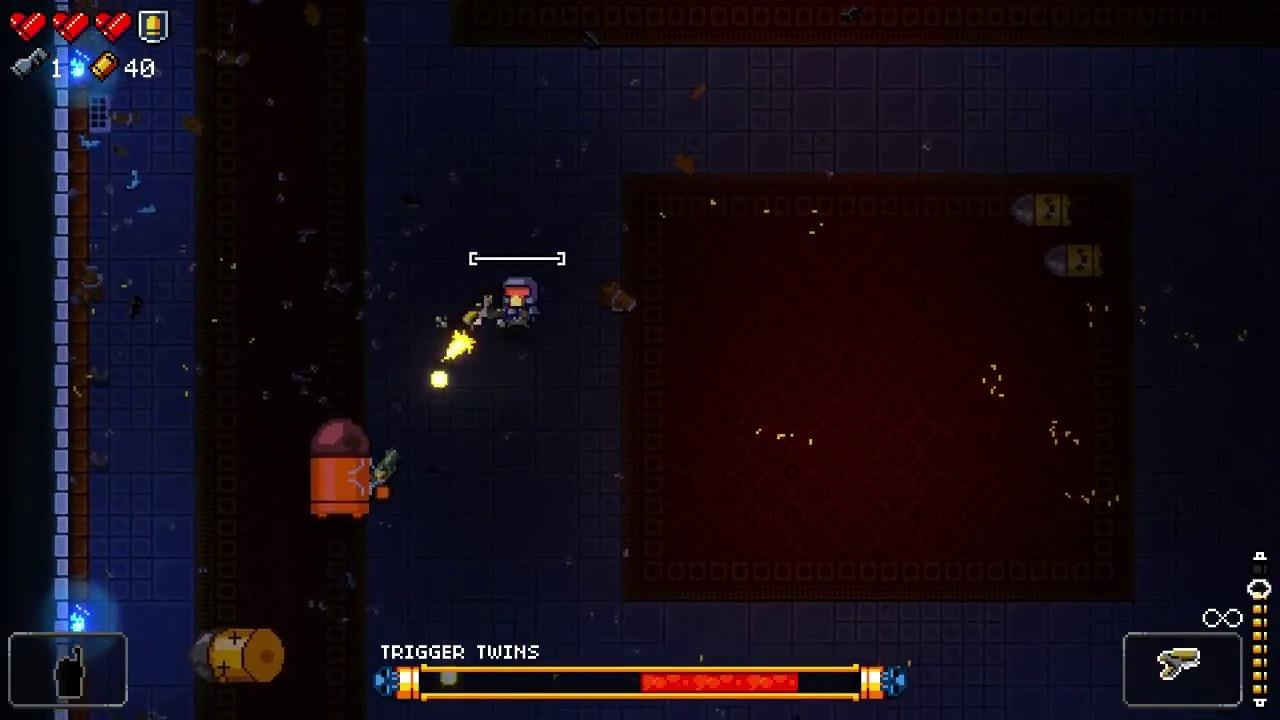boss_smiley: (309, 416, 370, 519)
dead_boss_shades: (188, 629, 287, 684)
dead_bullet_kin: (1048, 243, 1106, 279), (1014, 196, 1073, 228)
player: (499, 277, 539, 330)
